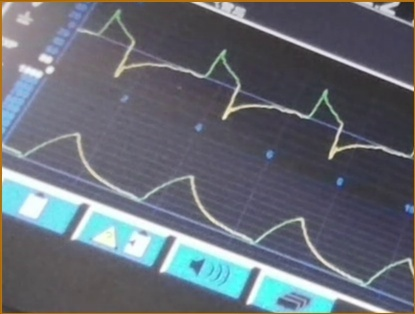Normal Flow: (77, 8, 414, 160)
Normal Volume: (6, 131, 415, 289)
